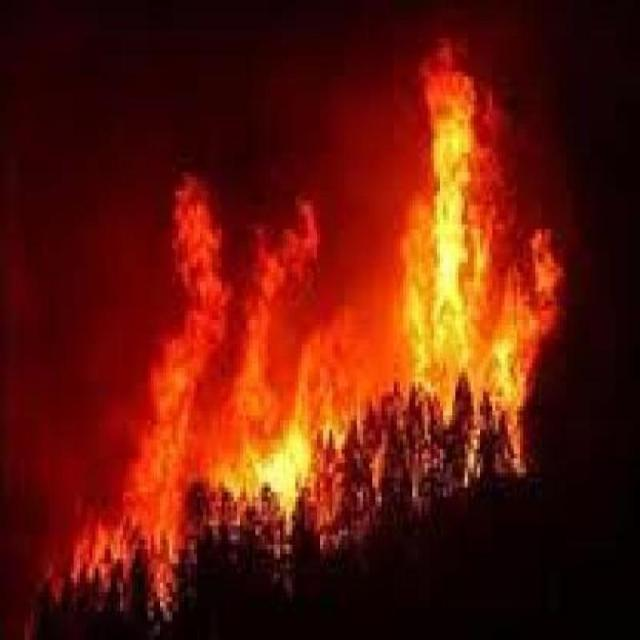Fire: (58, 90, 588, 562)
